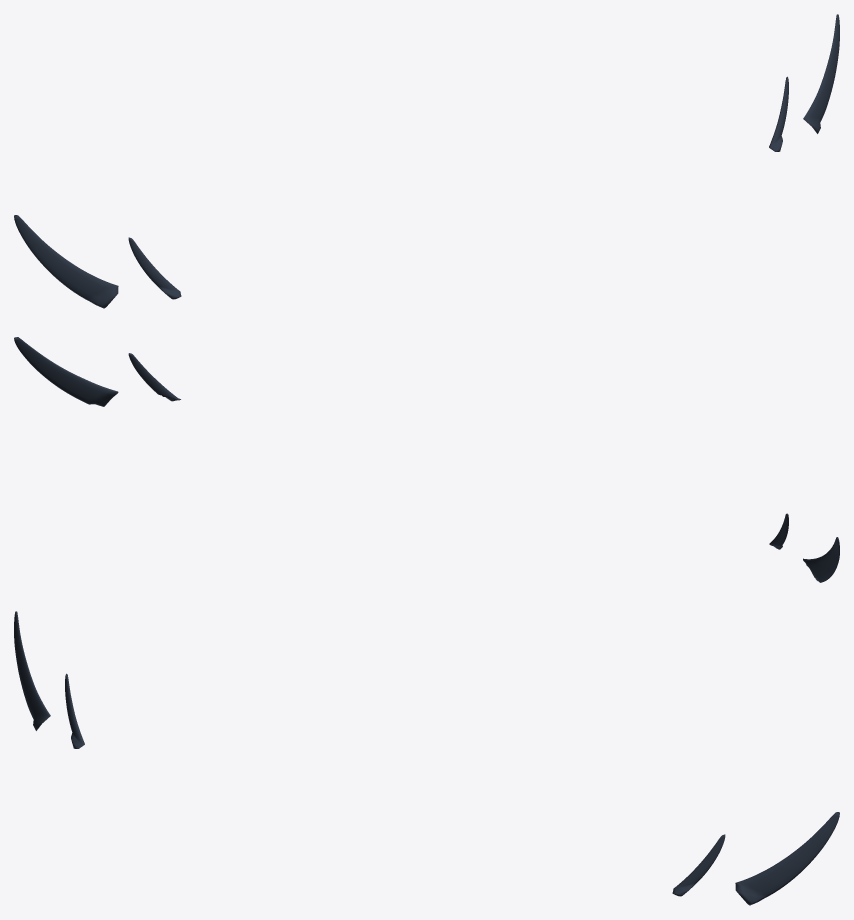
Rendered from feminine-222-lashes.glb.
3 views of the same model, one above another, from view 1: azimuth 30°, elevation 25°; view 2: azimuth 150°, elevation 25°; view 3: azimuth 330°, elevation 25° (orthographic).
Parts seen in each view (by area): view 1: 226 eyelashes / Lashes / charcoal234; view 2: 226 eyelashes / Lashes / charcoal234; view 3: 226 eyelashes / Lashes / charcoal234.
Part boxes in pixels (x1,y1,x2,y2): 226 eyelashes / Lashes / charcoal234: (14, 14, 839, 308); 226 eyelashes / Lashes / charcoal234: (14, 337, 839, 582); 226 eyelashes / Lashes / charcoal234: (14, 611, 839, 905).
Size of the model in its own units: 0.4318 by 0.0408 by 0.0473.
